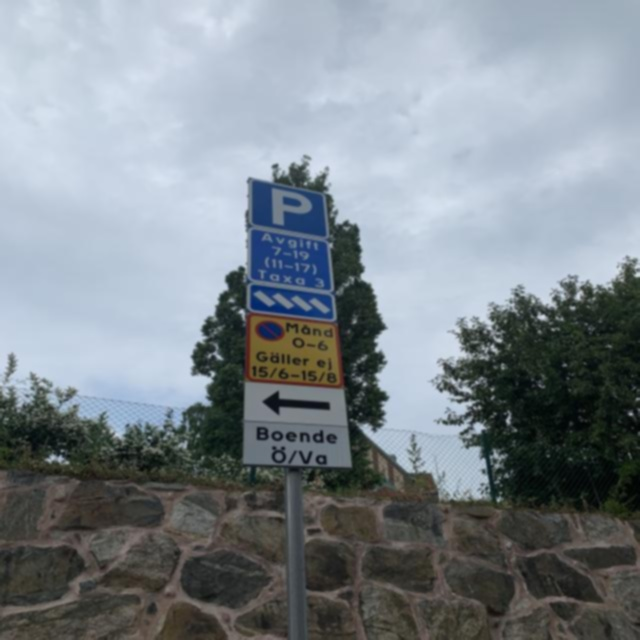P-skylt: (245, 175, 336, 242)
